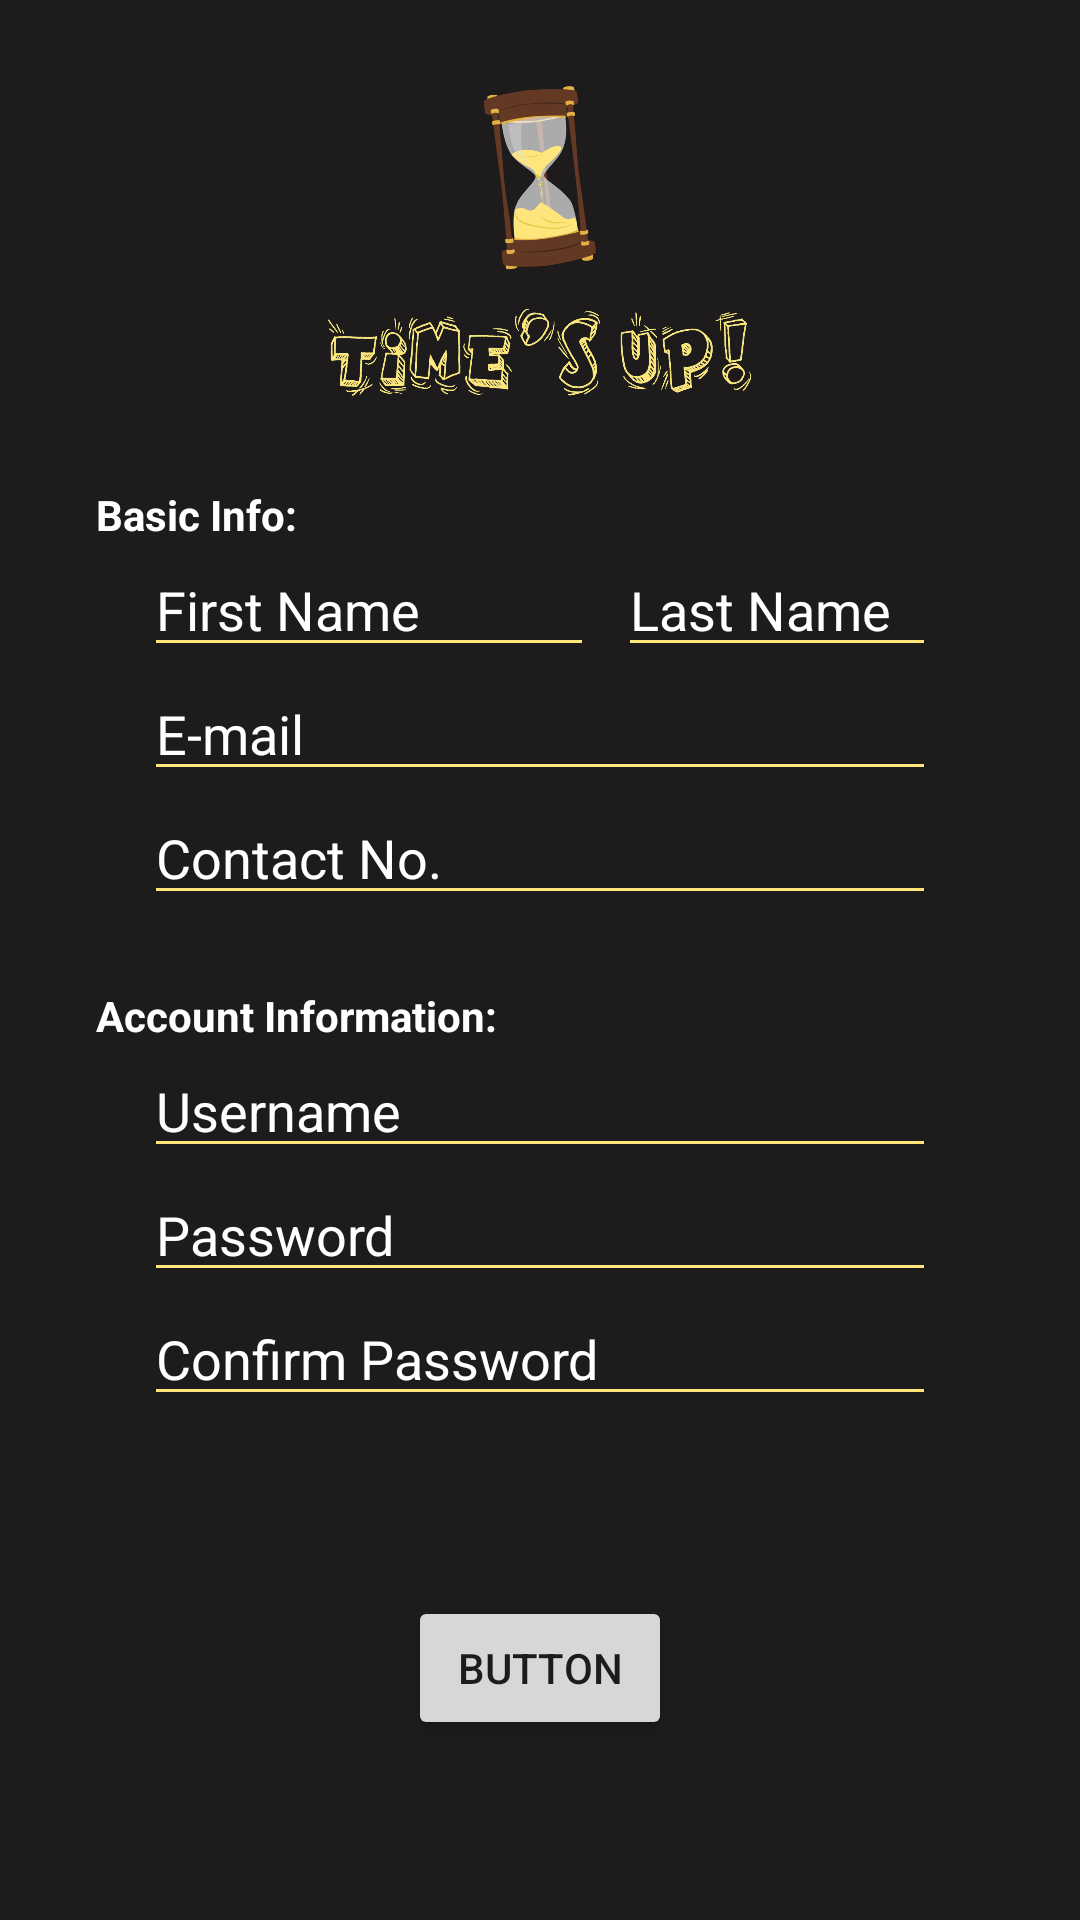

Point at icon controls on the screen. Image size 1080*1920, points as point (x, y).
times up pic: point (540, 177)
